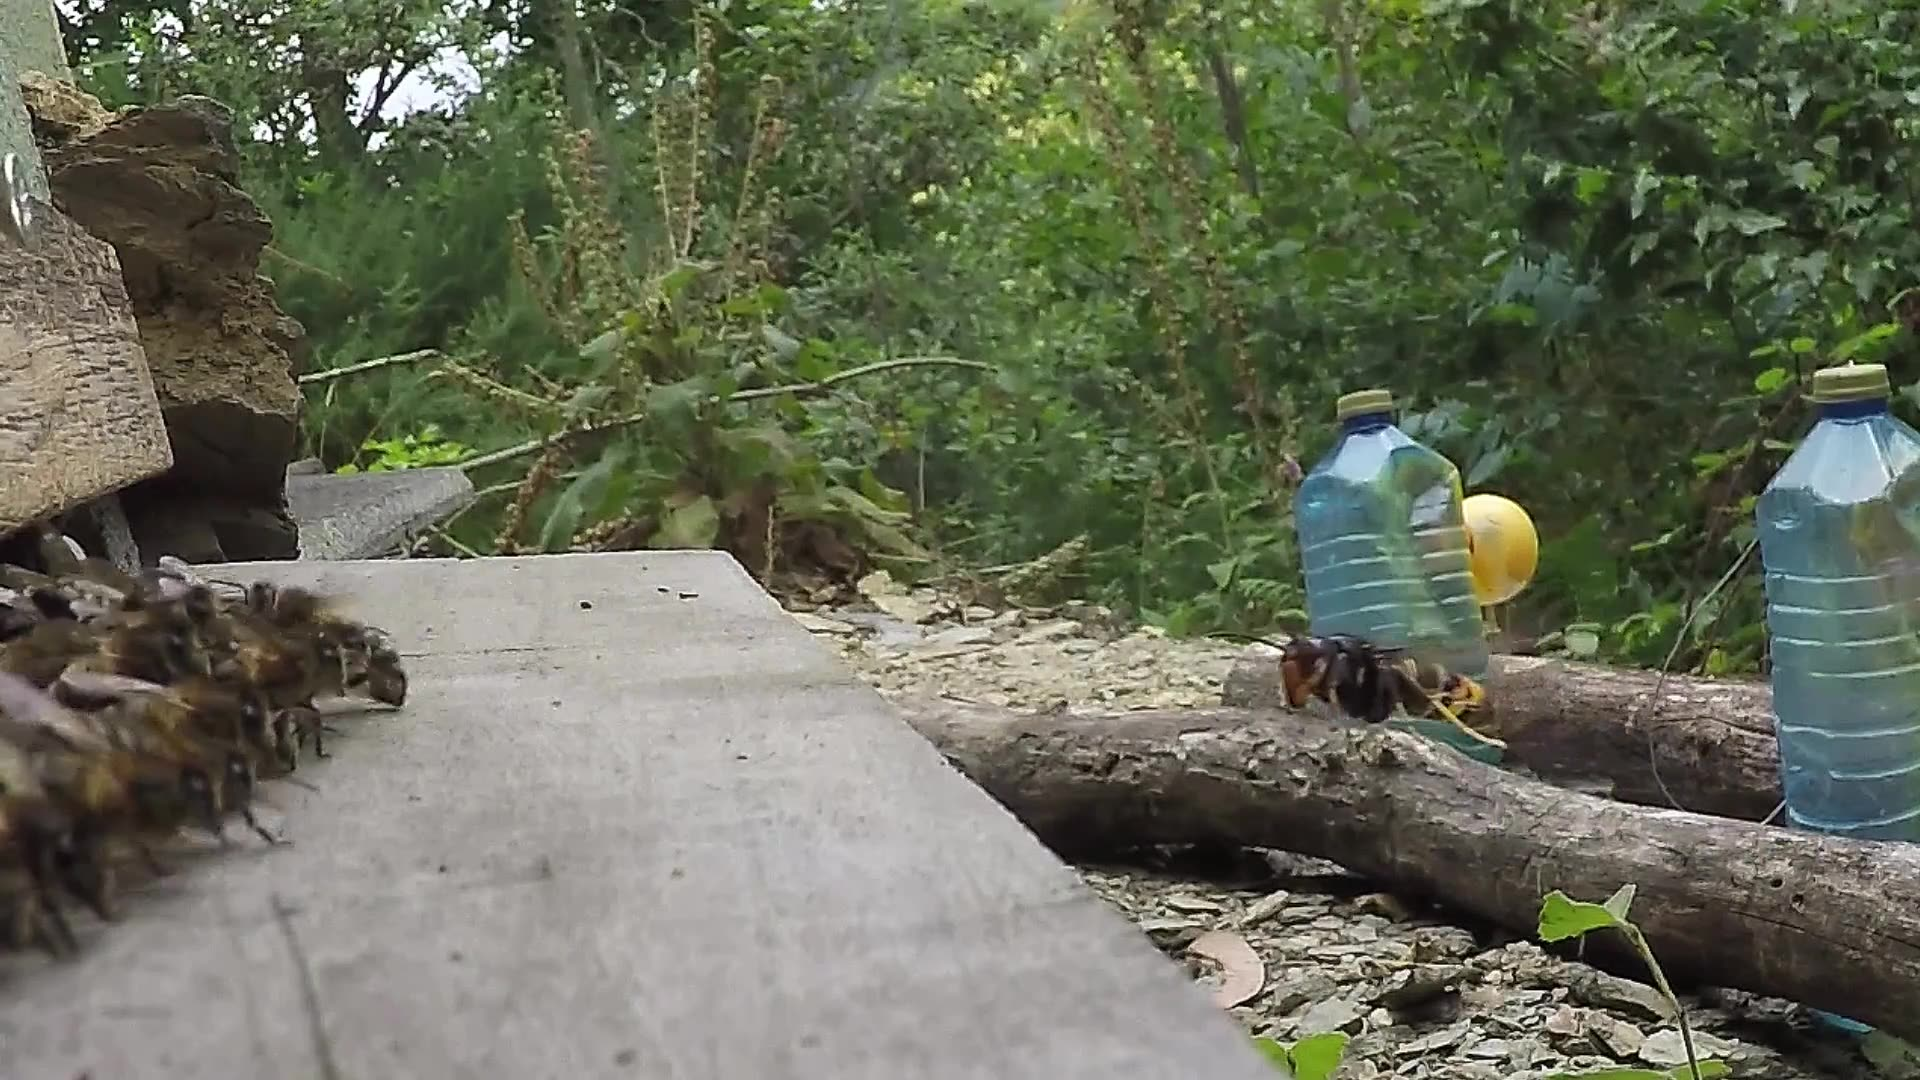bee: (1, 520, 243, 940), (231, 572, 433, 742)
hornet: (1269, 615, 1516, 762)
